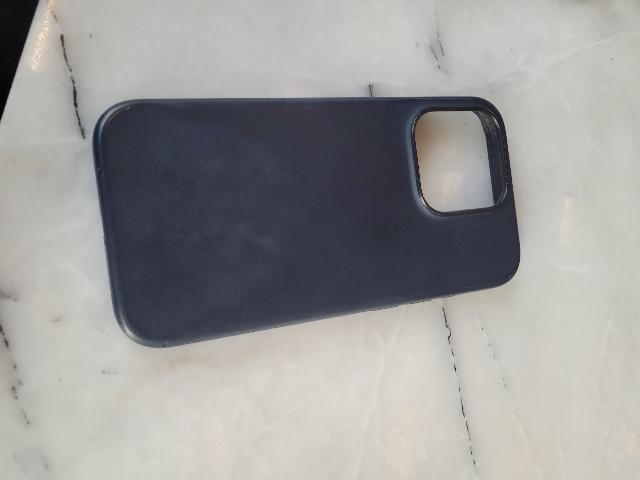Plastik: (92, 87, 529, 344)
